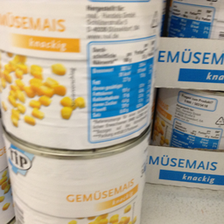corn: (1, 1, 160, 148), (2, 131, 151, 224)
